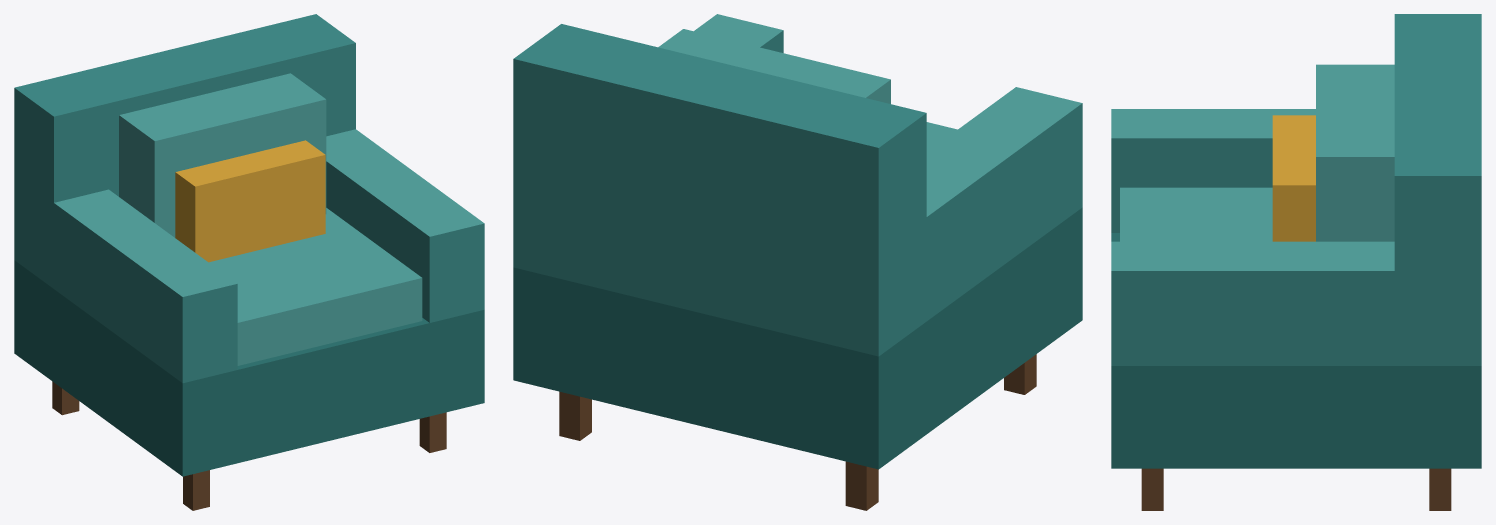
The model's file is armchair.glb.
3 renders of one model, left to right at view 1: azimuth 30°, elevation 25°; view 2: azimuth 150°, elevation 25°; view 3: azimuth 270°, elevation 25°, orthographic. The views are drawn at different scales.
Parts seen in each view (by area): view 1: armchair; view 2: armchair; view 3: armchair.
Boxes of the visible parts, x1,y1,x2,y2 form: armchair: [14, 14, 484, 510]; armchair: [513, 14, 1082, 510]; armchair: [1111, 14, 1481, 510].
Bounding box in the file's own units: 0.88 × 0.88 × 0.85.
